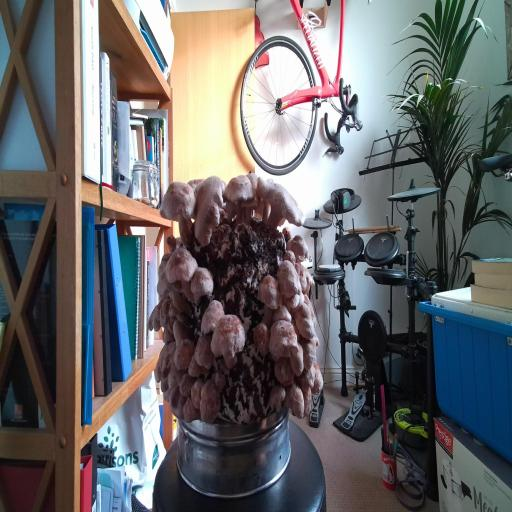Shiitake Mushroom: (239, 172, 321, 242), (149, 166, 214, 247), (197, 301, 260, 377), (151, 237, 217, 307), (210, 163, 270, 230), (187, 167, 228, 252), (242, 266, 295, 330), (145, 336, 189, 401), (147, 268, 200, 315), (191, 293, 232, 341), (163, 332, 206, 377), (159, 382, 196, 425), (273, 253, 304, 304), (185, 259, 218, 306), (267, 316, 299, 362), (279, 378, 312, 422), (287, 255, 319, 297), (291, 299, 319, 346), (269, 351, 299, 394), (240, 164, 271, 205), (174, 395, 208, 432), (283, 341, 314, 380), (180, 354, 215, 388), (198, 377, 222, 426), (283, 229, 312, 269), (191, 331, 217, 375), (249, 318, 276, 360), (234, 188, 261, 226), (162, 300, 191, 330), (251, 192, 275, 226), (280, 290, 310, 317), (169, 313, 192, 348), (175, 368, 198, 401), (158, 296, 176, 338), (267, 380, 288, 415), (301, 292, 322, 327), (188, 375, 205, 410), (155, 249, 173, 281), (210, 366, 230, 394), (299, 338, 316, 370), (311, 362, 326, 397), (157, 327, 180, 349), (297, 364, 316, 390), (147, 300, 162, 332), (280, 247, 301, 265), (164, 230, 180, 253), (272, 304, 292, 322), (278, 224, 296, 244), (224, 200, 238, 223), (303, 386, 313, 416), (161, 384, 173, 403), (187, 178, 204, 191)
